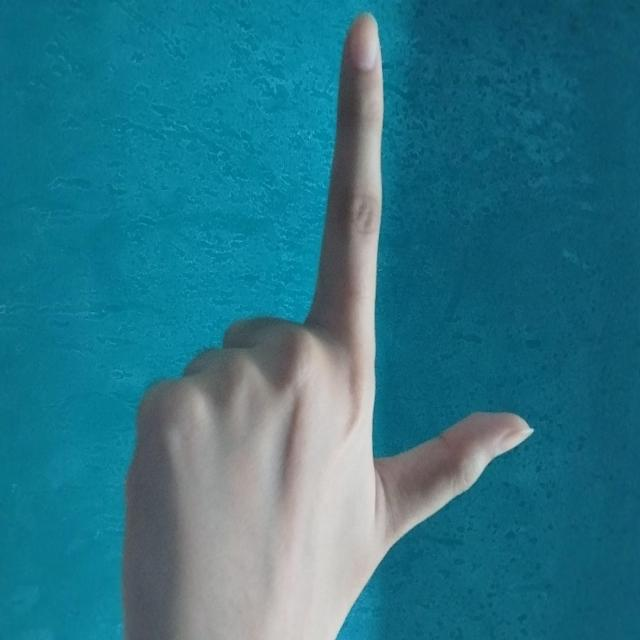G: (10, 98, 640, 522)
